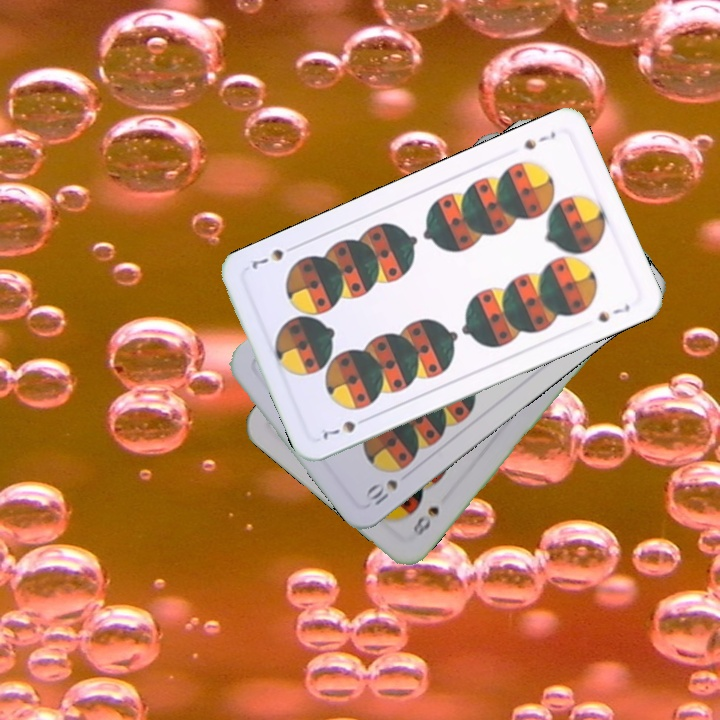S10: (361, 475, 401, 508)
S7: (318, 413, 372, 442), (520, 127, 559, 153)
S8: (406, 502, 442, 540)
